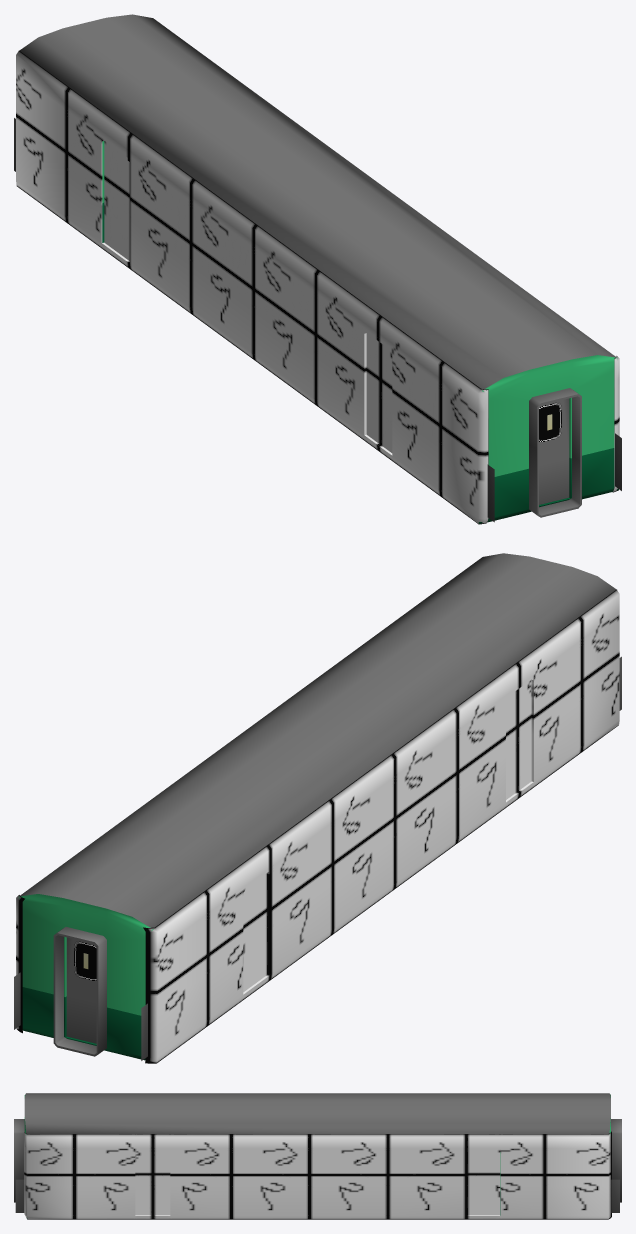
The picture shows the model from 3 angles, top to bottom: view 1: azimuth 30°, elevation 25°; view 2: azimuth 150°, elevation 25°; view 3: azimuth 270°, elevation 25°; orthographic projection. The views are drawn at different scales.
Visible parts, largest first — view 1: in, obj10, obj12, obj16, obj14, obj15, obj8, MI, MI_END; view 2: in, MI_END, obj8, obj15, obj14, obj12, obj16, obj10, MI; view 3: in, obj8, obj10, obj12, obj14, obj15, obj16, MI_END, MI.
Part boxes in pixels (bbox=[...]): in: bbox=[14, 14, 621, 524]; obj10: bbox=[316, 270, 380, 450]; obj12: bbox=[253, 224, 318, 405]; obj16: bbox=[66, 87, 131, 268]; obj14: bbox=[191, 179, 256, 359]; obj15: bbox=[129, 133, 193, 314]; obj8: bbox=[378, 316, 443, 496]; MI: bbox=[440, 356, 619, 524]; MI_END: bbox=[16, 50, 69, 222]; in: bbox=[14, 553, 621, 1060]; MI_END: bbox=[16, 891, 208, 1063]; obj8: bbox=[517, 617, 582, 797]; obj15: bbox=[268, 799, 332, 980]; obj14: bbox=[330, 754, 395, 934]; obj12: bbox=[392, 708, 457, 888]; obj16: bbox=[205, 845, 270, 1025]; obj10: bbox=[454, 662, 519, 843]; MI: bbox=[579, 589, 619, 751]; in: bbox=[14, 1093, 621, 1218]; obj8: bbox=[74, 1134, 152, 1219]; obj10: bbox=[153, 1134, 231, 1219]; obj12: bbox=[231, 1134, 309, 1219]; obj14: bbox=[309, 1134, 387, 1219]; obj15: bbox=[388, 1134, 466, 1219]; obj16: bbox=[466, 1134, 544, 1219]; MI_END: bbox=[545, 1131, 611, 1219]; MI: bbox=[24, 1132, 74, 1219].
Bounding box in the file's own units: 6.56 × 6.4 × 38.79.
28 materials, 26 textured.
